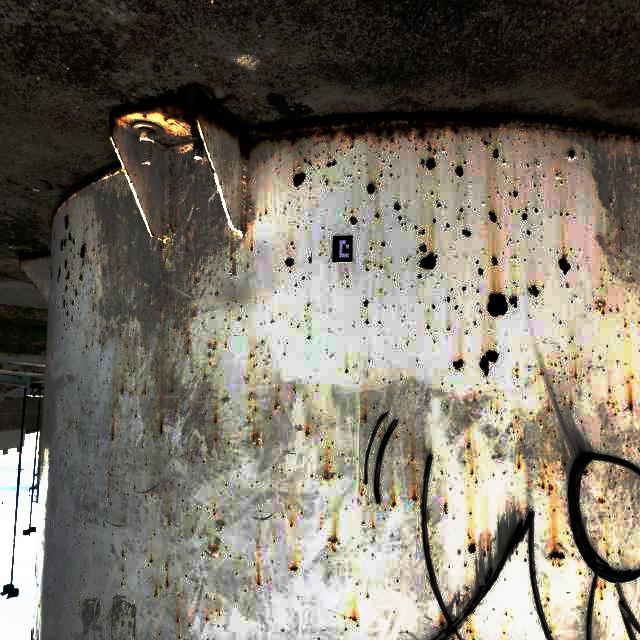Corrosion: (193, 89, 640, 183), (109, 93, 200, 150), (51, 165, 122, 238), (18, 252, 51, 275), (479, 349, 500, 377), (487, 292, 508, 317), (419, 252, 438, 270), (558, 254, 571, 276), (293, 172, 306, 188), (147, 222, 159, 239), (240, 214, 248, 238), (139, 127, 156, 138), (527, 284, 539, 297), (452, 359, 464, 372), (425, 157, 436, 170), (566, 148, 576, 162), (550, 551, 565, 560), (595, 301, 606, 312), (208, 545, 218, 557), (327, 536, 340, 545), (509, 295, 518, 308), (158, 416, 164, 435), (159, 240, 168, 252), (324, 471, 336, 480), (455, 165, 464, 177), (488, 211, 497, 223), (230, 261, 236, 279), (226, 207, 232, 224), (367, 183, 376, 194), (326, 159, 337, 168), (252, 434, 260, 446), (80, 244, 86, 259), (285, 258, 294, 267), (169, 223, 177, 233), (64, 214, 69, 230), (419, 243, 427, 253), (462, 229, 472, 237), (469, 543, 476, 554), (242, 175, 251, 183), (350, 217, 358, 226), (34, 284, 41, 294), (394, 202, 401, 212), (118, 150, 123, 163), (124, 165, 129, 177), (493, 149, 499, 159), (492, 256, 498, 266), (60, 238, 64, 252), (419, 228, 426, 236), (361, 414, 367, 423), (58, 267, 61, 284), (68, 232, 73, 242), (420, 158, 425, 168), (628, 402, 633, 412), (483, 138, 489, 146), (522, 213, 528, 221), (478, 268, 484, 276), (193, 143, 202, 148), (289, 566, 298, 571), (64, 259, 68, 270), (66, 269, 70, 280), (444, 504, 448, 515), (50, 266, 53, 280), (363, 300, 369, 307), (582, 470, 588, 477), (350, 616, 357, 622), (274, 403, 280, 410), (62, 299, 66, 309), (513, 190, 518, 198), (440, 620, 445, 628), (79, 273, 83, 282), (257, 577, 261, 586), (242, 160, 248, 166), (220, 522, 224, 531), (29, 279, 34, 286), (427, 145, 432, 152), (309, 253, 312, 264), (360, 488, 364, 496), (433, 148, 437, 156), (112, 425, 114, 441), (50, 259, 52, 274), (331, 546, 336, 552), (391, 502, 396, 508), (412, 496, 418, 501), (375, 213, 380, 219), (461, 287, 466, 293), (306, 429, 310, 436), (497, 223, 501, 230), (446, 296, 450, 303), (64, 238, 67, 247), (417, 274, 422, 279), (598, 498, 603, 503), (169, 389, 174, 394), (65, 285, 68, 293), (308, 161, 312, 167), (365, 319, 369, 325), (414, 225, 418, 231), (433, 218, 437, 224), (459, 207, 463, 213), (489, 131, 492, 139), (454, 305, 458, 311), (154, 589, 157, 597), (165, 563, 168, 571), (121, 387, 124, 394), (290, 521, 293, 528), (122, 551, 125, 558), (168, 520, 171, 527), (246, 201, 248, 211), (165, 229, 169, 234), (75, 288, 77, 298), (398, 216, 402, 221), (437, 203, 441, 208), (446, 223, 450, 228), (526, 230, 530, 235), (555, 172, 559, 177), (563, 461, 567, 466), (381, 242, 385, 247), (365, 267, 369, 272), (186, 247, 189, 253), (102, 267, 105, 273), (325, 180, 328, 186), (427, 544, 430, 550), (432, 304, 435, 310), (566, 282, 569, 288), (483, 551, 486, 557), (467, 443, 470, 449), (134, 414, 137, 420), (53, 229, 55, 237), (82, 259, 84, 267), (303, 159, 307, 163), (316, 141, 320, 145), (307, 336, 311, 340), (535, 162, 539, 166), (166, 580, 168, 588), (205, 618, 209, 622), (71, 300, 74, 305), (380, 173, 383, 178), (345, 369, 348, 374), (427, 325, 430, 330), (431, 191, 434, 196), (535, 208, 538, 213), (476, 260, 479, 265), (602, 310, 605, 315), (548, 408, 551, 413), (250, 246, 253, 251), (621, 226, 624, 231), (609, 198, 612, 203), (224, 344, 227, 349), (53, 250, 55, 257), (73, 238, 75, 245), (66, 310, 68, 317), (518, 463, 520, 470), (230, 257, 233, 261), (73, 254, 75, 260), (71, 316, 73, 322), (390, 173, 393, 177), (320, 139, 323, 143), (372, 524, 375, 528), (362, 522, 366, 525), (401, 223, 404, 227), (408, 139, 412, 142), (415, 147, 418, 151), (427, 141, 430, 145), (560, 181, 563, 185), (476, 290, 480, 293), (450, 288, 453, 292), (542, 485, 545, 489), (575, 373, 577, 379), (451, 637, 455, 640), (380, 265, 383, 269), (369, 247, 372, 251), (236, 227, 239, 231), (215, 292, 219, 295), (150, 560, 153, 564), (186, 351, 189, 355), (166, 292, 169, 296), (550, 488, 553, 492), (160, 218, 162, 223), (503, 160, 505, 165), (487, 546, 489, 551), (207, 132, 209, 137), (220, 181, 222, 186), (622, 167, 624, 172), (189, 623, 191, 628), (168, 154, 170, 159), (141, 161, 146, 163), (145, 461, 147, 466), (107, 494, 109, 499), (389, 151, 392, 154), (351, 145, 354, 148), (302, 277, 305, 280), (378, 321, 381, 324), (525, 208, 528, 211), (566, 213, 569, 216), (479, 311, 482, 314), (447, 328, 450, 331), (559, 321, 562, 324), (406, 258, 409, 261), (589, 307, 592, 310), (609, 309, 612, 312), (153, 144, 156, 147), (187, 228, 189, 232), (54, 233, 55, 241), (265, 210, 267, 214), (291, 242, 293, 246), (289, 270, 291, 274), (307, 304, 311, 306), (420, 504, 422, 508), (421, 495, 423, 499), (436, 200, 438, 204), (466, 136, 468, 140), (481, 138, 483, 142), (509, 192, 511, 196), (560, 212, 562, 216), (474, 321, 476, 325), (559, 563, 561, 567), (471, 471, 473, 475), (583, 155, 585, 159), (620, 249, 622, 253), (214, 419, 216, 423), (182, 499, 184, 503), (160, 308, 162, 312), (195, 278, 197, 282), (174, 325, 176, 329), (130, 181, 132, 184), (48, 266, 50, 269), (70, 249, 72, 252), (77, 252, 79, 255), (62, 295, 64, 298), (390, 165, 392, 168), (350, 174, 352, 177), (329, 156, 331, 159), (365, 139, 367, 142), (293, 169, 295, 172), (318, 166, 320, 169), (301, 145, 303, 148), (320, 253, 322, 256), (295, 283, 297, 286), (293, 388, 295, 391), (331, 441, 333, 444), (311, 475, 313, 478), (288, 506, 290, 509), (261, 518, 264, 520), (274, 540, 276, 543), (338, 475, 340, 478), (347, 285, 349, 288), (404, 222, 406, 225), (415, 143, 417, 146), (416, 190, 418, 193), (464, 161, 466, 164), (506, 176, 508, 179), (511, 210, 513, 213), (527, 164, 529, 167), (538, 194, 540, 197), (466, 331, 468, 334), (460, 311, 462, 314), (571, 337, 573, 340), (464, 564, 466, 567), (496, 411, 498, 414), (351, 210, 353, 213), (221, 200, 223, 203), (617, 176, 619, 179), (147, 564, 149, 567), (175, 410, 177, 413), (188, 341, 190, 344), (123, 131, 125, 134), (85, 250, 87, 252), (66, 268, 67, 272), (52, 334, 53, 338), (64, 323, 65, 327), (383, 161, 385, 163), (336, 149, 337, 153), (341, 140, 343, 142), (347, 175, 349, 177), (366, 163, 368, 165), (323, 151, 325, 153), (271, 154, 272, 158), (297, 226, 299, 228), (293, 247, 295, 249), (297, 326, 299, 328), (278, 389, 280, 391), (346, 276, 348, 278), (468, 206, 470, 208), (474, 208, 476, 210), (489, 142, 491, 144), (518, 211, 520, 213), (534, 185, 536, 187), (374, 264, 376, 266), (400, 288, 402, 290), (637, 185, 639, 187), (630, 273, 632, 275), (617, 270, 619, 272), (121, 582, 122, 586), (156, 380, 158, 382), (72, 267, 73, 270), (67, 303, 68, 306), (58, 306, 59, 309), (315, 154, 316, 157), (300, 152, 301, 155), (283, 515, 284, 518), (272, 560, 273, 563), (613, 272, 614, 275), (197, 507, 198, 510), (160, 321, 161, 324), (165, 257, 166, 260), (116, 139, 117, 142), (191, 457, 192, 460), (142, 446, 143, 449), (71, 282, 72, 284), (73, 285, 74, 287), (66, 304, 67, 306), (78, 308, 79, 310), (379, 183, 380, 185), (379, 155, 380, 157), (350, 147, 351, 149), (355, 157, 356, 159), (340, 149, 341, 151), (310, 180, 312, 181), (310, 173, 311, 175), (260, 510, 261, 512), (446, 154, 447, 156), (452, 165, 454, 166), (543, 176, 545, 177), (394, 279, 395, 281), (192, 371, 193, 373), (141, 283, 142, 285), (184, 329, 185, 331), (398, 157, 399, 158), (344, 153, 345, 154), (310, 188, 311, 189), (55, 303, 55, 305), (53, 305, 53, 308)
